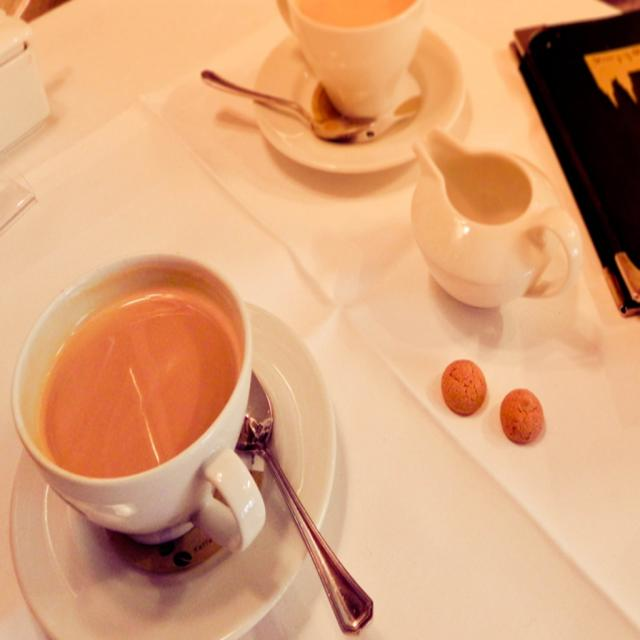Tea: (40, 302, 238, 478)
